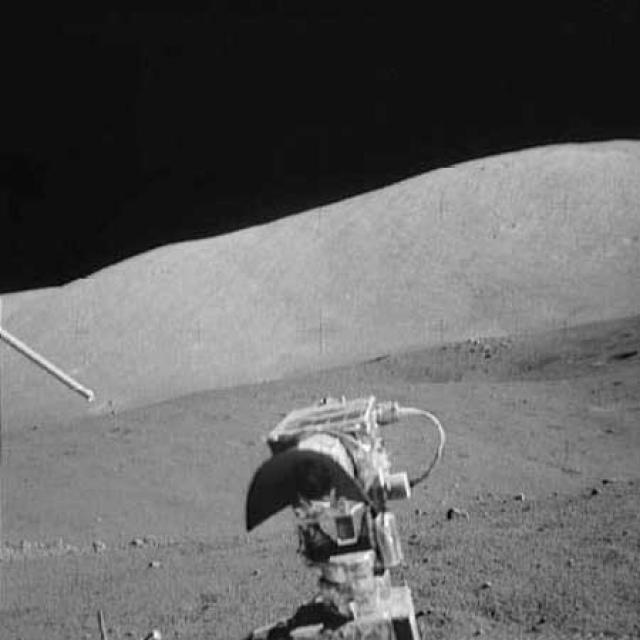artifact: (236, 391, 451, 639), (1, 327, 96, 403)
crater: (368, 335, 561, 382)
